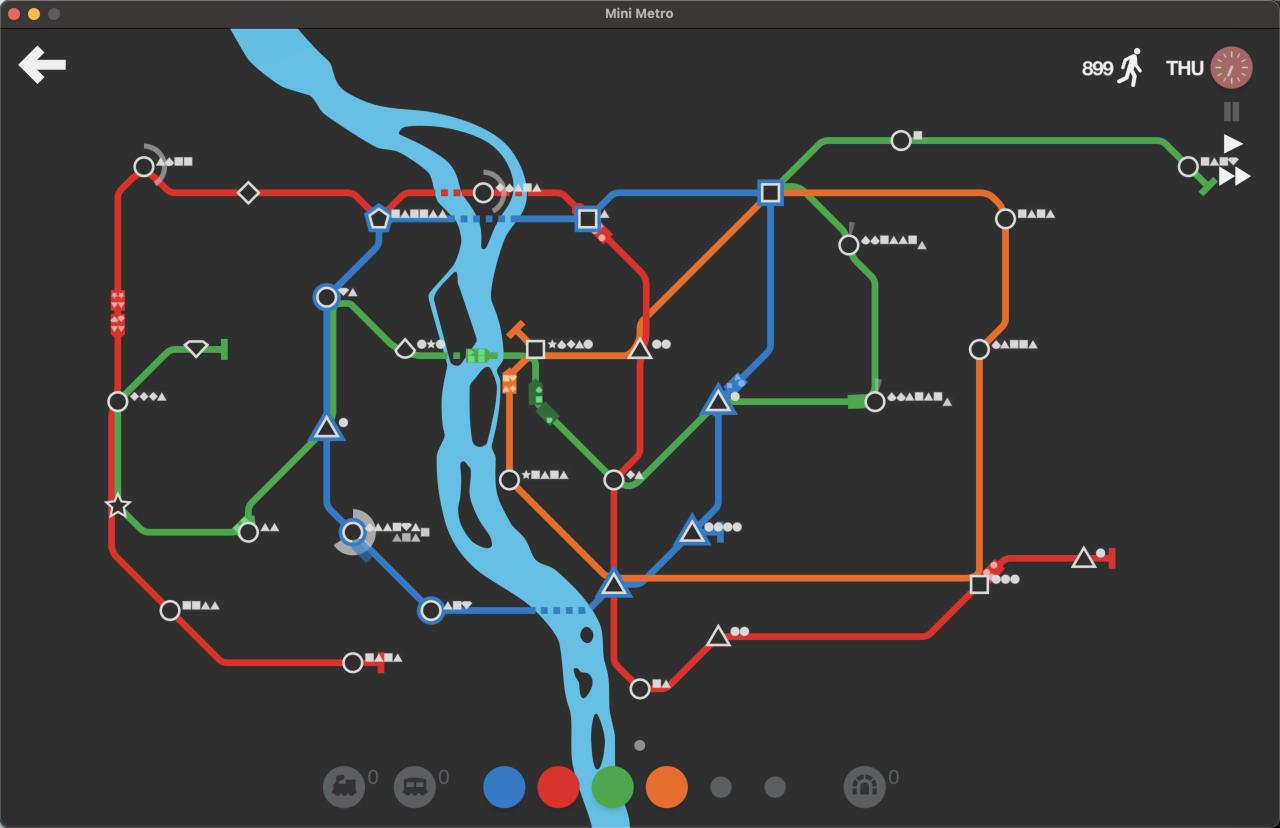CIRCLE: (417, 596, 445, 625), (313, 283, 340, 310), (340, 519, 367, 546), (237, 520, 260, 544), (342, 651, 365, 674), (472, 181, 495, 204), (890, 129, 912, 152), (1177, 155, 1199, 178), (159, 600, 181, 622), (629, 678, 651, 700), (107, 391, 129, 413), (603, 469, 625, 491), (133, 155, 155, 177), (498, 468, 520, 490), (838, 234, 860, 256), (995, 208, 1017, 230), (864, 391, 886, 413), (969, 338, 990, 361)
DIAMOND: (183, 339, 209, 357)
GEM: (237, 180, 260, 205)
PENTAGON: (363, 204, 391, 233)
SQUARE: (757, 180, 783, 205), (575, 207, 600, 232), (969, 574, 991, 595), (525, 339, 546, 358)
STAR: (105, 493, 132, 519)
TRIANGLE: (700, 383, 736, 417), (597, 568, 632, 599), (677, 516, 710, 546), (309, 414, 345, 441), (1070, 545, 1098, 569), (706, 622, 731, 647), (626, 337, 653, 360)
WEDGE: (394, 337, 416, 359)
